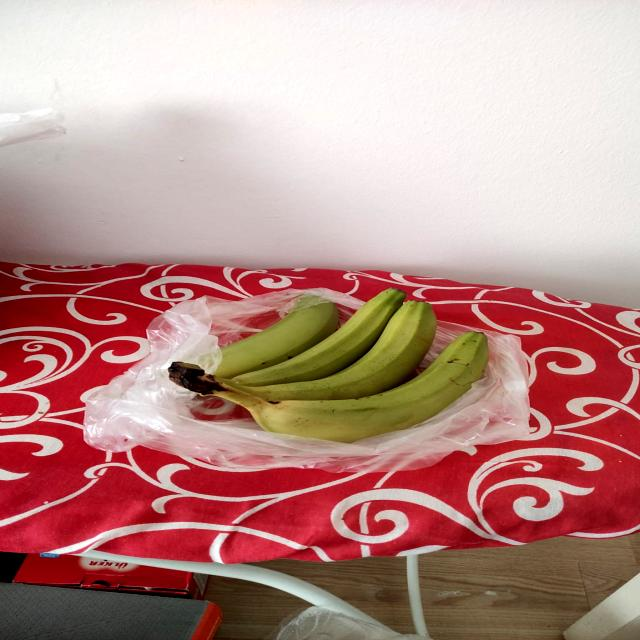banana: (157, 281, 524, 442), (161, 321, 512, 444)
